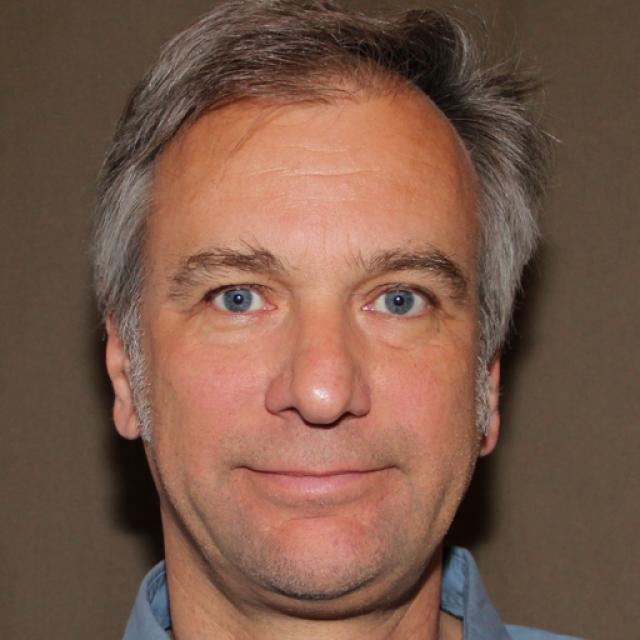content: (141, 96, 484, 599)
